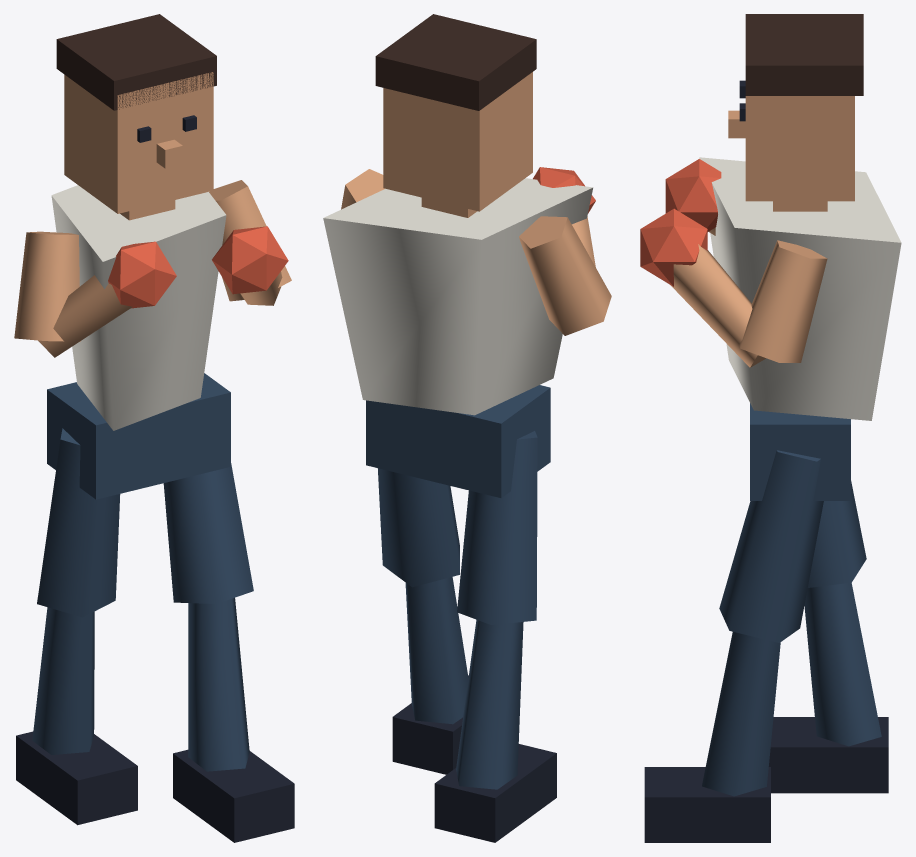
3 views of the same model, side by side, from view 1: azimuth 30°, elevation 25°; view 2: azimuth 150°, elevation 25°; view 3: azimuth 270°, elevation 25° (orthographic). The views are drawn at different scales.
Visible parts, largest first — view 1: shirt, head, hips, hair, right thigh, left thigh, left shin, right shin, left shoe, right shoe, right upper arm, left glove (+5 smaller); view 2: shirt, head, hips, right thigh, hair, right shin, left thigh, left shin, right shoe, right upper arm, left shoe, left upper arm (+1 smaller); view 3: shirt, left thigh, head, hair, right shin, left shin, left shoe, right shoe, left upper arm, hips, left forearm, right thigh (+3 smaller).
Boxes of the visible parts, x1,y1,x2,y2 form: shirt: [51, 185, 226, 430]; head: [64, 72, 213, 213]; hips: [47, 373, 230, 499]; hair: [56, 14, 216, 110]; right thigh: [37, 428, 120, 617]; left thigh: [163, 463, 253, 603]; left shin: [188, 597, 249, 771]; right shin: [32, 607, 94, 754]; left shoe: [173, 749, 294, 842]; right shoe: [16, 731, 137, 825]; right upper arm: [14, 231, 80, 341]; left glove: [212, 226, 288, 294]; shirt: [323, 178, 593, 415]; head: [383, 72, 532, 211]; hips: [366, 385, 550, 497]; right thigh: [457, 431, 537, 624]; hair: [375, 14, 536, 110]; right shin: [456, 619, 523, 789]; left thigh: [378, 468, 459, 587]; left shin: [405, 577, 468, 724]; right shoe: [434, 744, 556, 842]; right upper arm: [519, 216, 611, 335]; left shoe: [392, 675, 468, 774]; left upper arm: [341, 169, 384, 209]; shirt: [699, 157, 901, 420]; left thigh: [719, 450, 823, 642]; head: [745, 96, 854, 201]; hair: [745, 14, 863, 95]; right shin: [804, 582, 881, 746]; left shin: [702, 632, 780, 796]; left shoe: [644, 767, 770, 842]; right shoe: [768, 717, 888, 793]; left upper arm: [739, 240, 827, 362]; hips: [750, 403, 850, 500]; left forearm: [670, 244, 765, 367]; right thigh: [807, 481, 866, 587].
Bounding box in the file's own units: 0.3798 × 1 × 0.3102.
